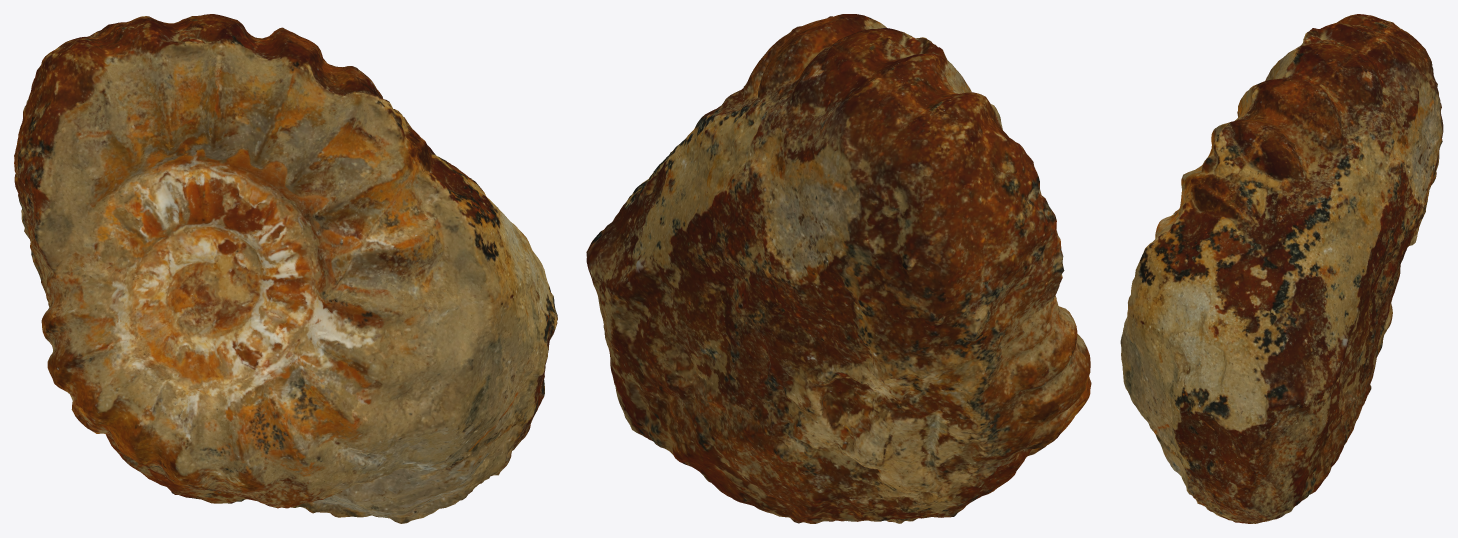
The model's file is benchmark-medium.glb.
3 renders of one model, left to right at view 1: azimuth 30°, elevation 25°; view 2: azimuth 150°, elevation 25°; view 3: azimuth 270°, elevation 25°, orthographic. The views are drawn at different scales.
Parts seen in each view (by area): view 1: ObjectCapture; view 2: ObjectCapture; view 3: ObjectCapture.
Part boxes in pixels (bbox=[...]): ObjectCapture: bbox=[14, 14, 557, 523]; ObjectCapture: bbox=[586, 14, 1091, 523]; ObjectCapture: bbox=[1120, 14, 1443, 523].
Size of the model in its own units: 0.1256 by 0.1273 by 0.0894.
Materials: 1 (1 with a texture image).
